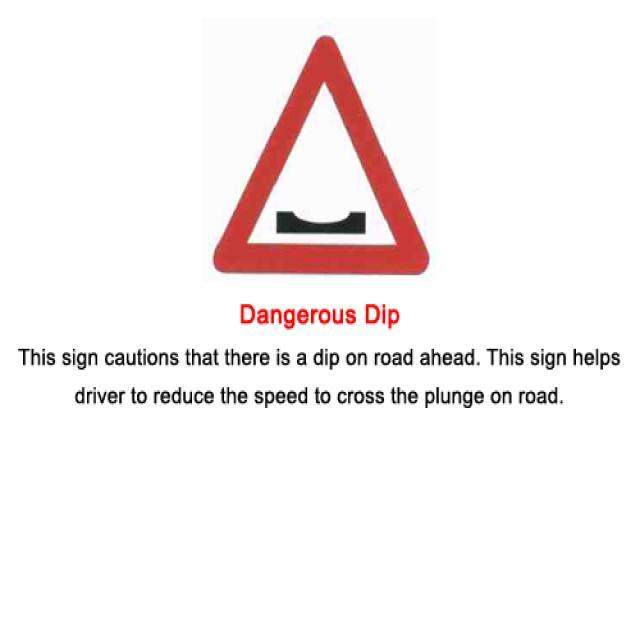dangerous dip: (210, 32, 429, 279)
